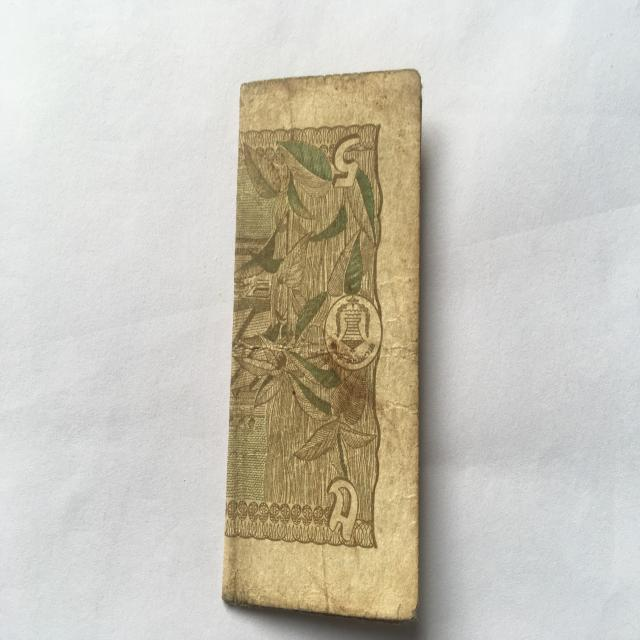Taka: (240, 63, 429, 621)
